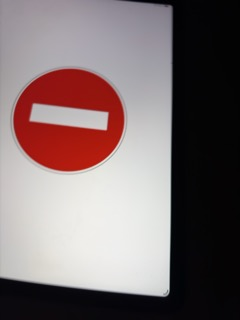NO ENTRY: (10, 66, 127, 177)
